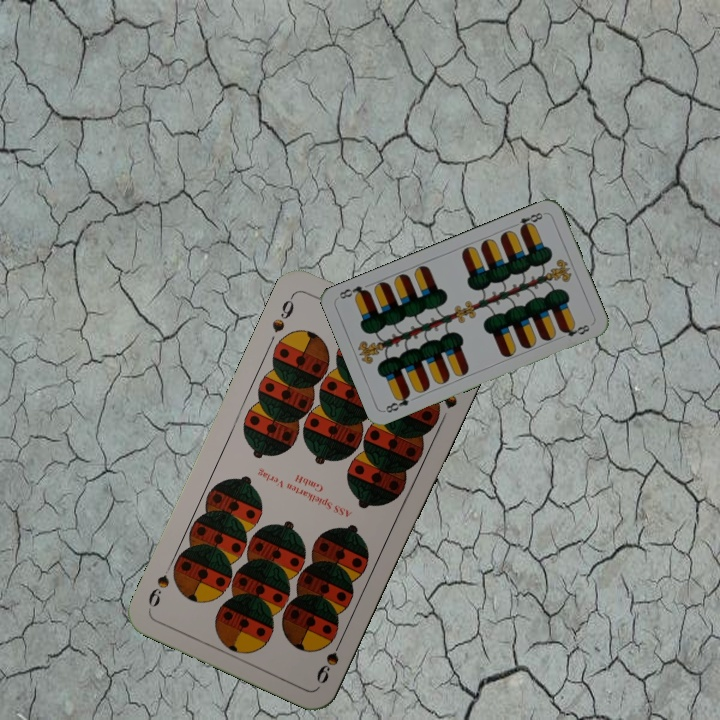E8: (509, 208, 548, 233), (382, 388, 413, 415)
S9: (312, 632, 347, 687), (267, 290, 297, 335)
